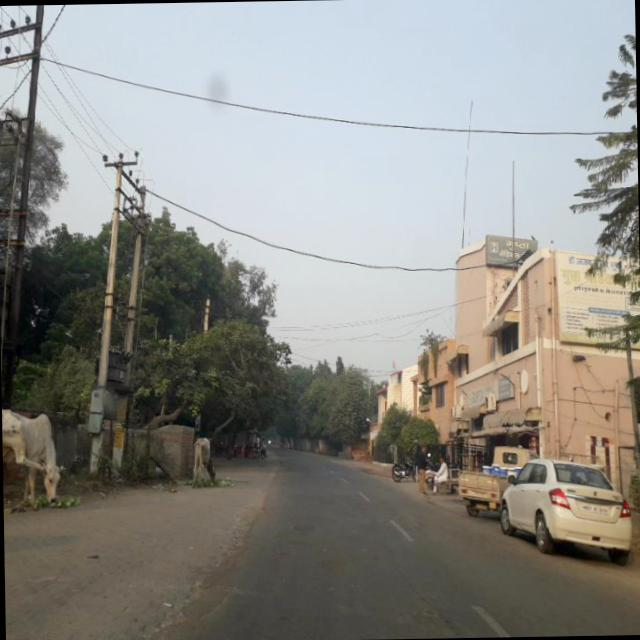crack: (123, 560, 220, 639)
